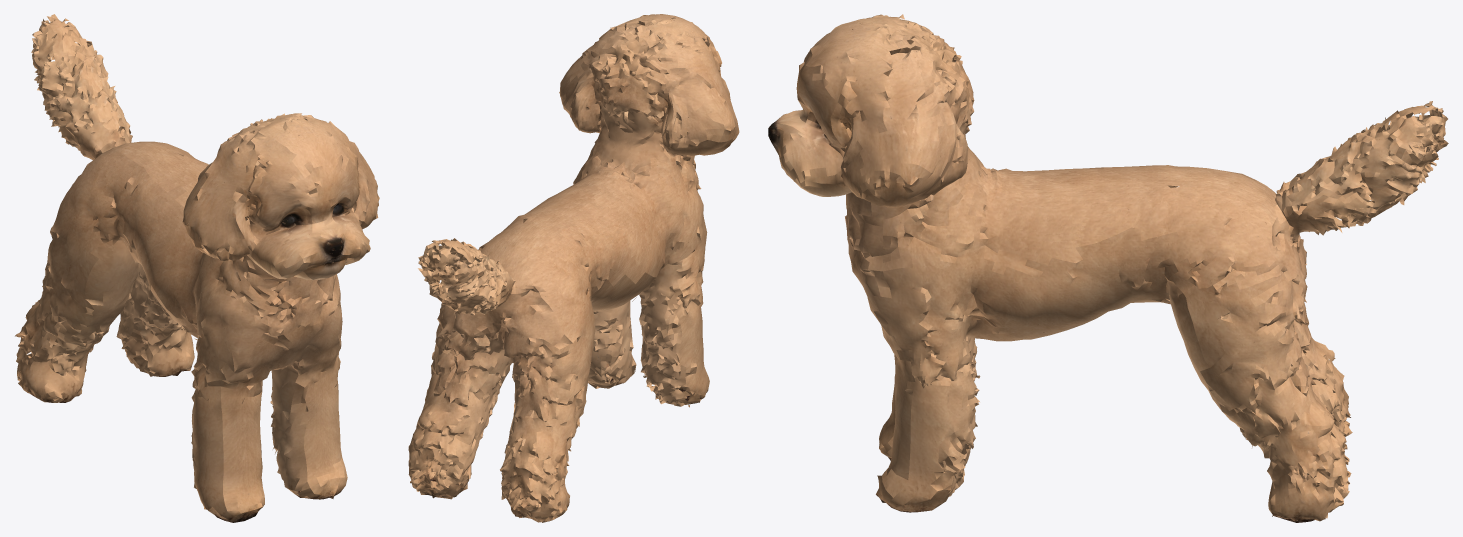
Rendered from dog_quad15k.glb.
3 renders of one model, left to right at view 1: azimuth 30°, elevation 25°; view 2: azimuth 150°, elevation 25°; view 3: azimuth 270°, elevation 25°, orthographic. The views are drawn at different scales.
Parts seen in each view (by area): view 1: Mesh0; view 2: Mesh0; view 3: Mesh0.
Part boxes in pixels (bbox=[...]): Mesh0: bbox=[15, 14, 379, 522]; Mesh0: bbox=[408, 14, 739, 522]; Mesh0: bbox=[768, 14, 1448, 522].
Bounding box in the file's own units: 0.6972 × 1.39 × 1.88.
1 material, 1 textured.
